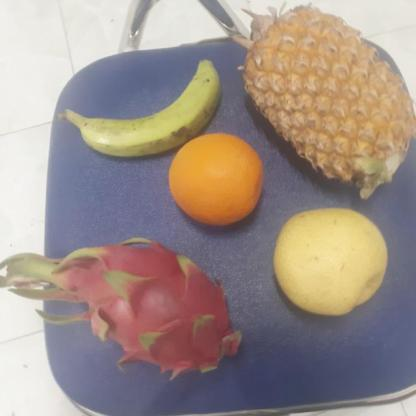banana: (75, 53, 220, 160)
orange: (167, 130, 267, 228)
pear: (272, 204, 391, 318)
pineapple: (243, 0, 414, 189)
pitaya: (64, 237, 244, 375)
